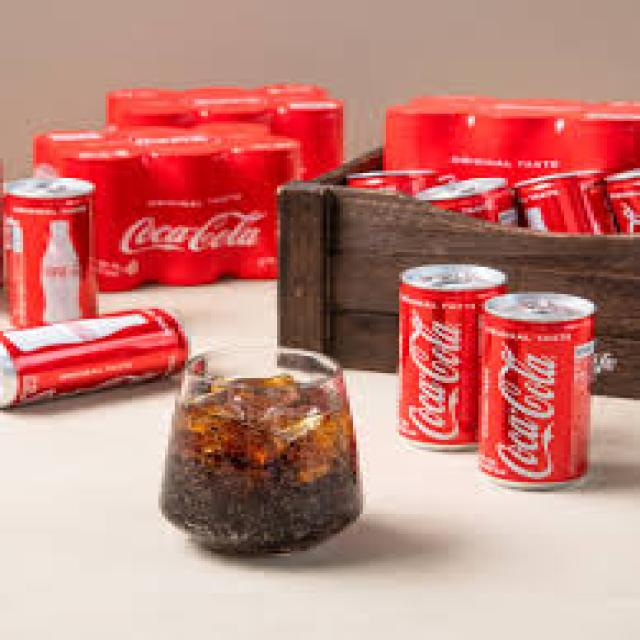Coca-Cola: (0, 294, 212, 420), (478, 287, 602, 498), (383, 255, 508, 456), (0, 170, 109, 346)
